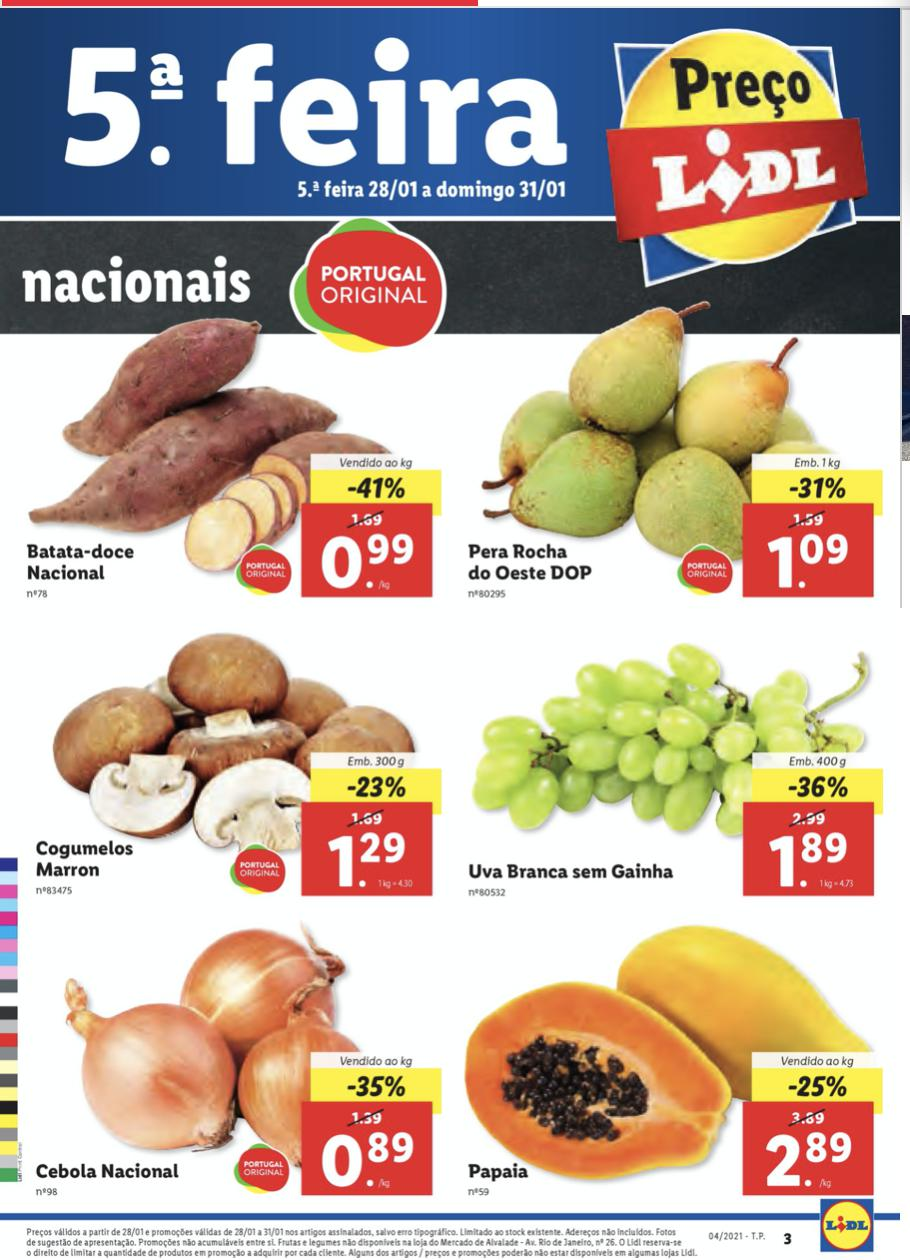name: (465, 538, 595, 585), (469, 860, 678, 884), (25, 541, 134, 587), (36, 1157, 184, 1187), (34, 840, 137, 882), (465, 1160, 530, 1185)
price: (312, 1127, 419, 1191), (319, 529, 415, 590), (762, 1131, 856, 1190), (326, 831, 411, 891), (769, 831, 851, 891), (765, 532, 848, 591)
product: (447, 284, 894, 618), (451, 910, 901, 1209), (447, 618, 901, 910), (14, 615, 447, 913), (14, 329, 442, 615), (28, 924, 451, 1210)
promotion: (339, 471, 415, 507), (787, 1070, 858, 1104), (780, 470, 853, 501), (340, 771, 408, 802), (784, 773, 853, 802), (344, 1071, 409, 1101)
